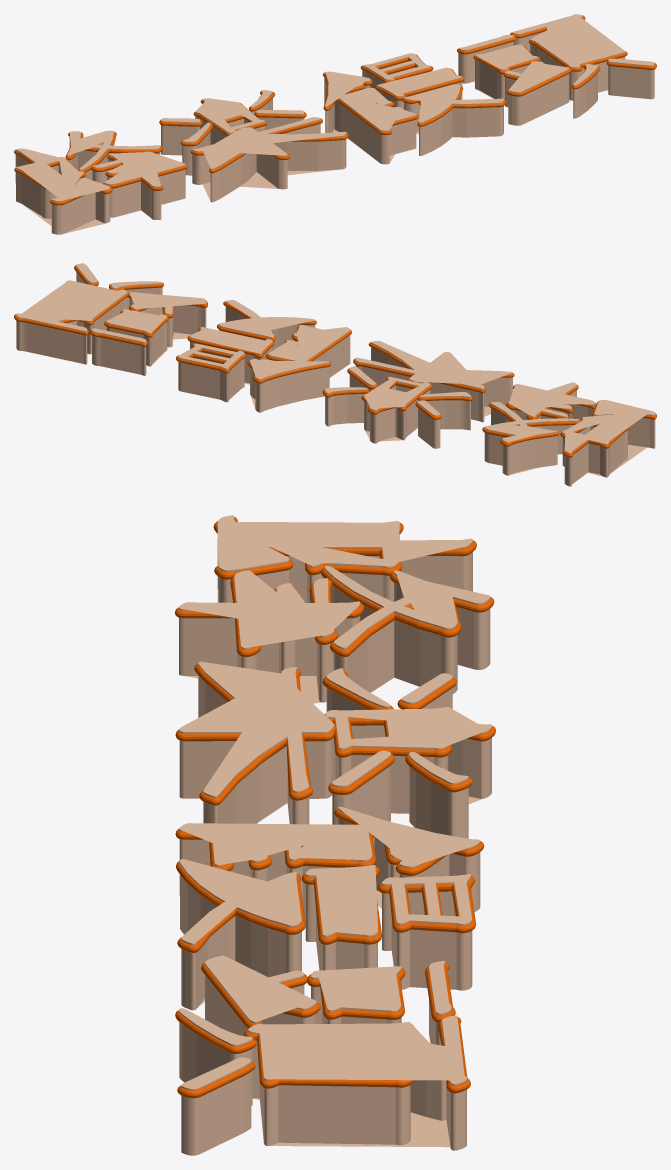
Rendered from hourakumanju_klee.fbx.
The picture shows the model from 3 angles, top to bottom: view 1: azimuth 30°, elevation 25°; view 2: azimuth 150°, elevation 25°; view 3: azimuth 270°, elevation 25°; orthographic projection. The views are drawn at different scales.
Visible parts, largest first — view 1: Text, Text.001; view 2: Text, Text.001; view 3: Text, Text.001.
Part boxes in pixels (<box>): Text: <box>15,14,654,234</box>; Text.001: <box>14,15,656,205</box>; Text: <box>16,263,655,486</box>; Text.001: <box>14,265,656,457</box>; Text: <box>179,515,491,1155</box>; Text.001: <box>175,517,495,1098</box>.
Size of the model in its own units: 13.57 by 0.7314 by 3.19.
